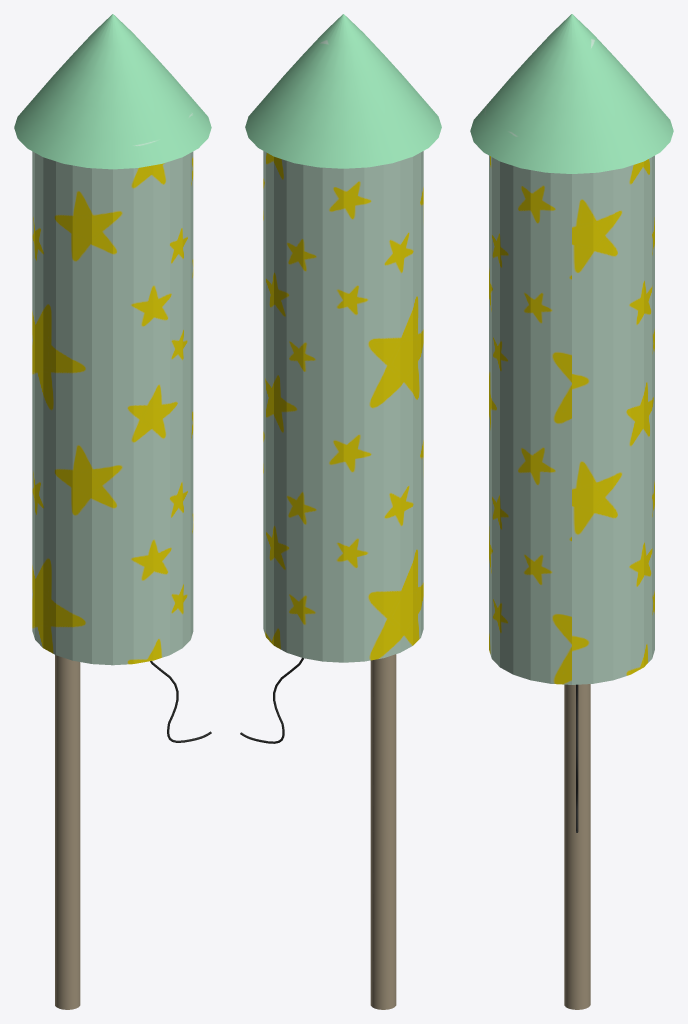
File: firecracker_1.fbx
3 views of the same model, side by side, from view 1: azimuth 30°, elevation 25°; view 2: azimuth 150°, elevation 25°; view 3: azimuth 270°, elevation 25° (orthographic). The views are drawn at different scales.
Visible parts, largest first — view 1: Cone001; view 2: Cone001; view 3: Cone001.
Boxes of the visible parts, x1=… form: Cone001: x1=14, y1=14, x2=211, y2=1009; Cone001: x1=240, y1=14, x2=441, y2=1009; Cone001: x1=470, y1=14, x2=673, y2=1009.
Bounding box in the file's own units: 56.52 × 284 × 51.81.
